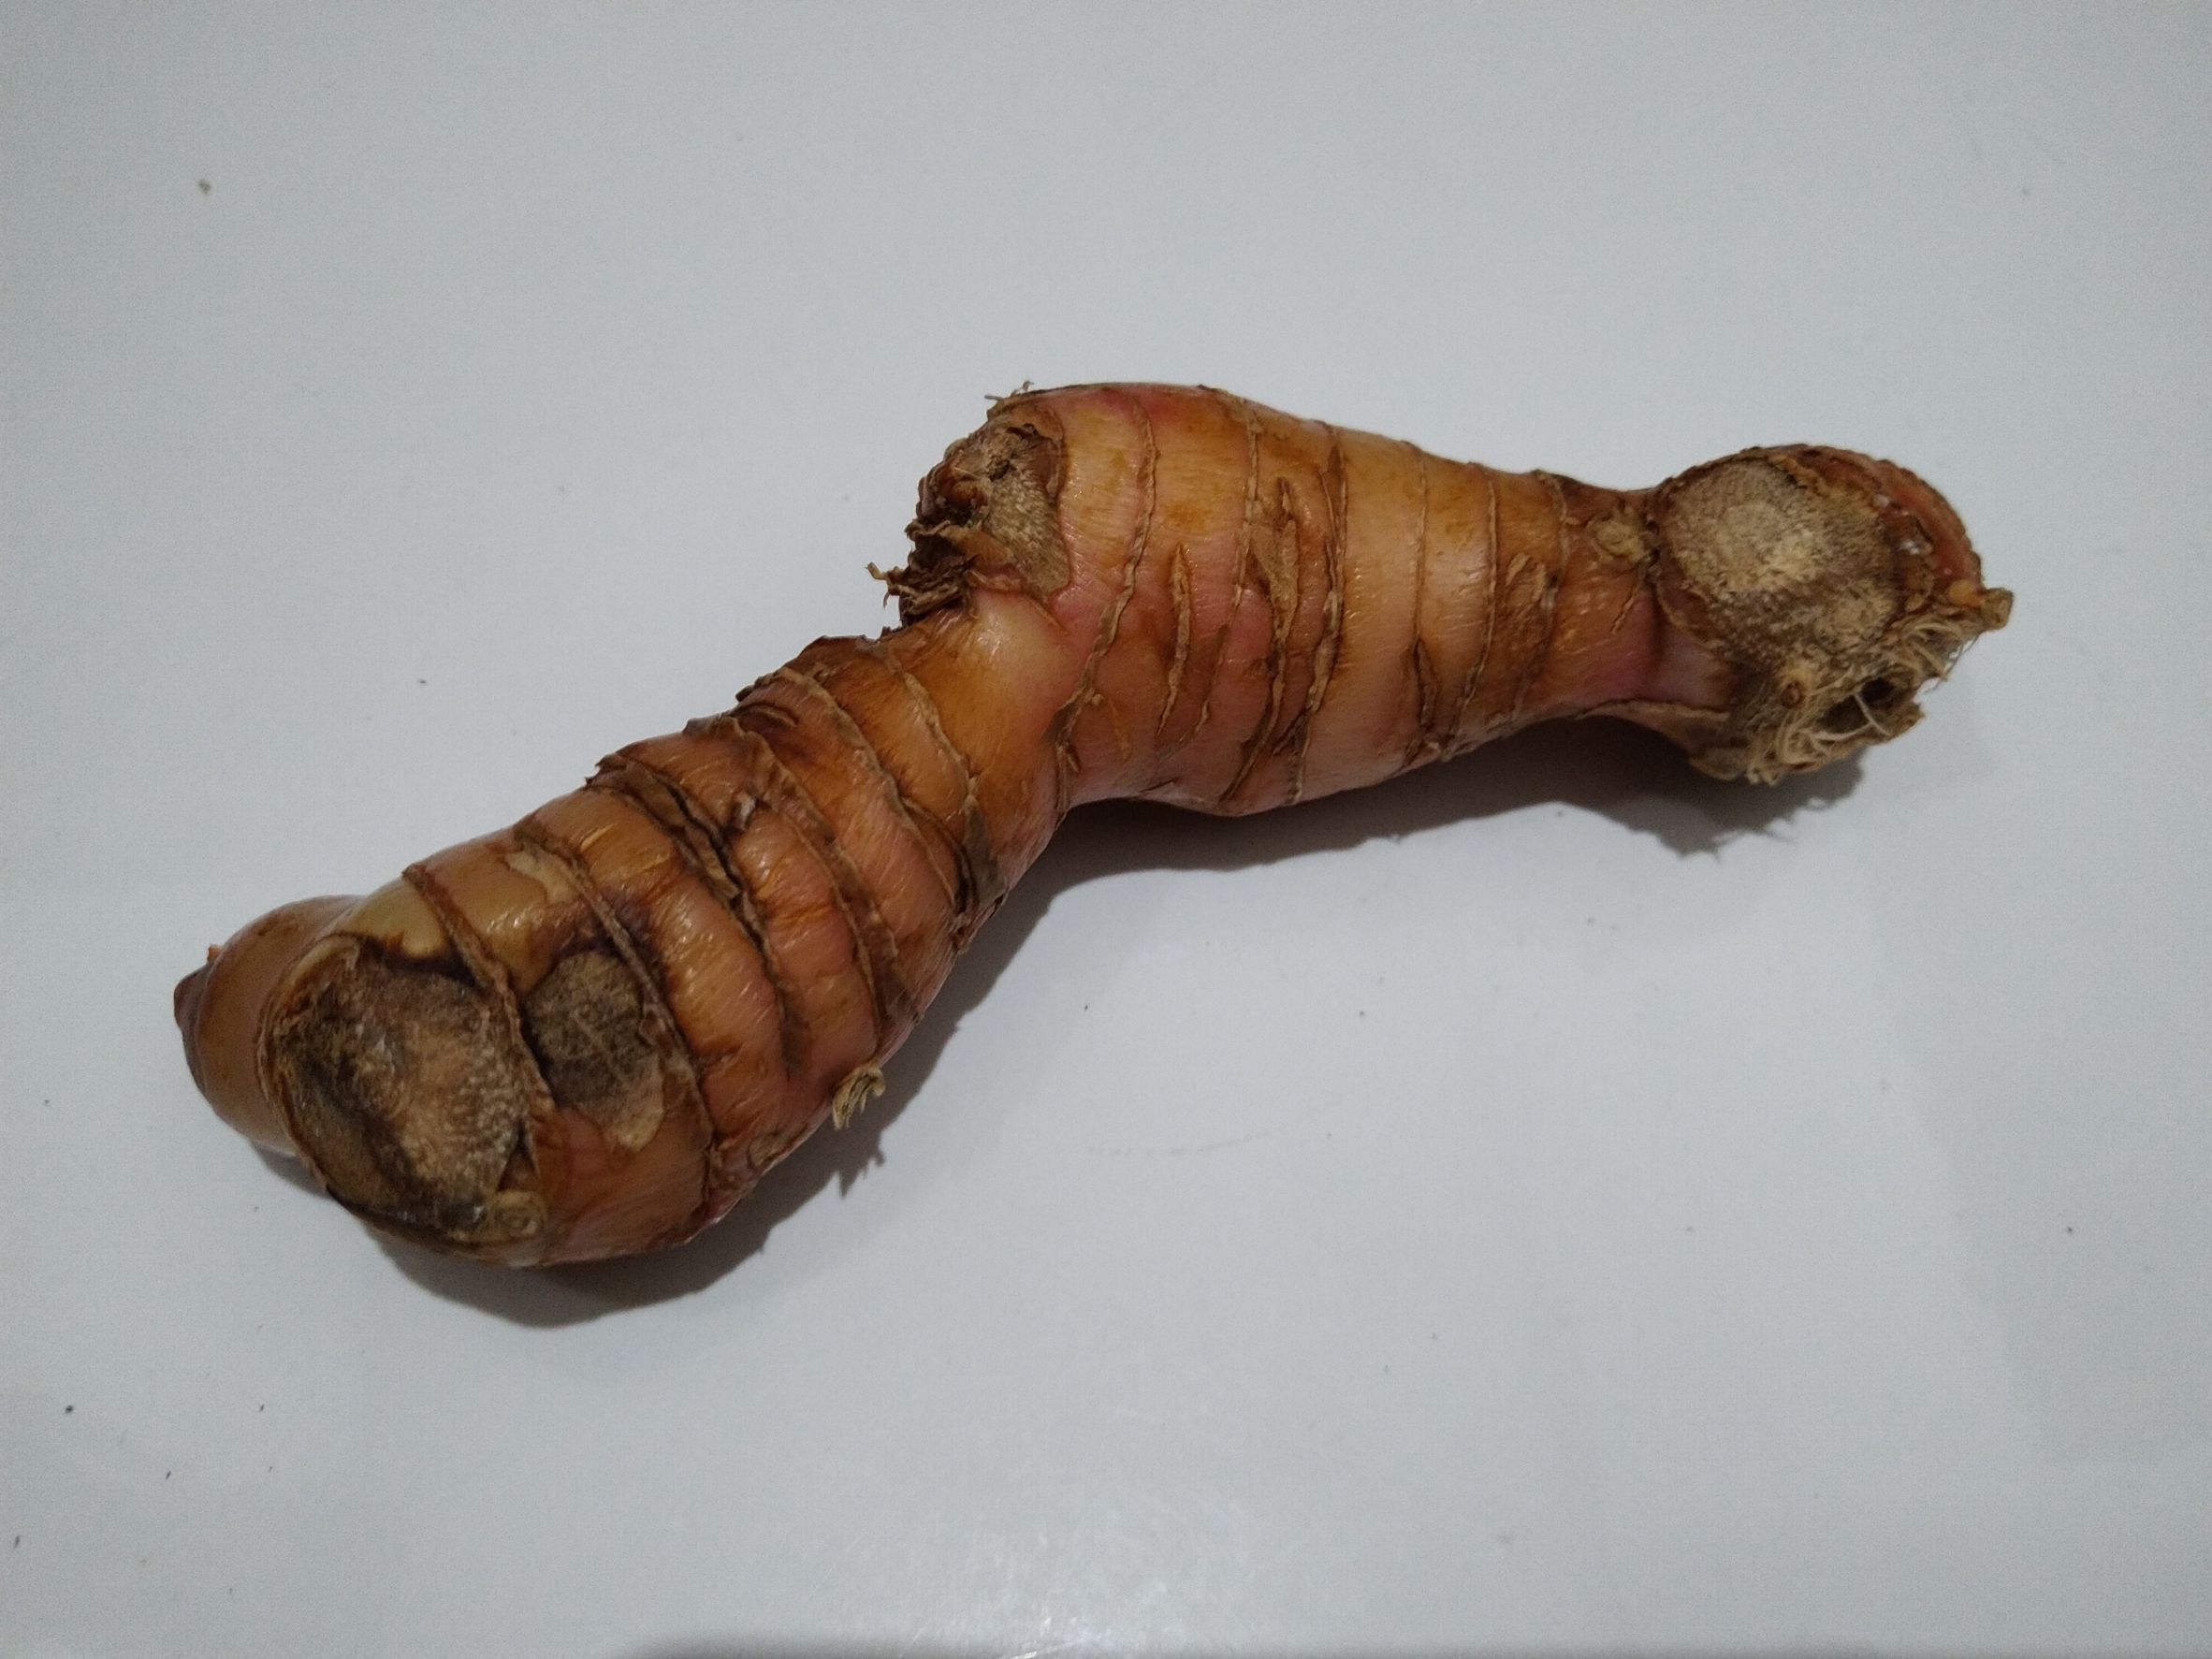Lengkuas: (193, 371, 1993, 1323)
